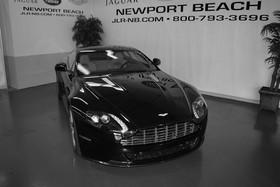car: (52, 42, 212, 173)
